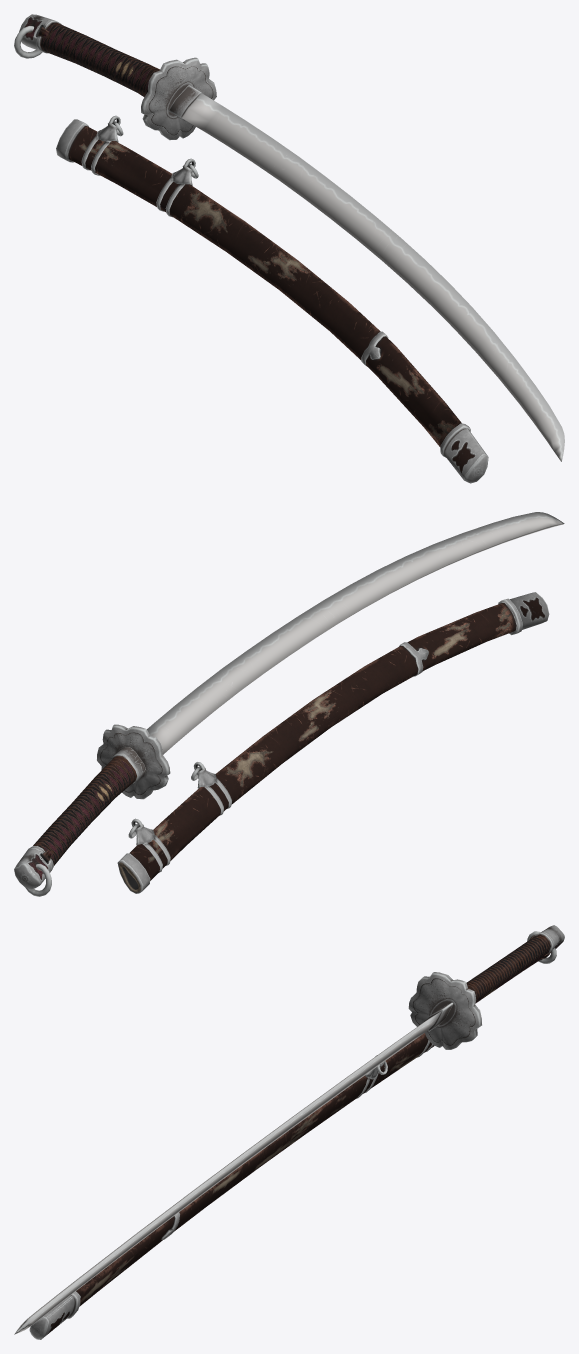
File: katanasekiro.obj
3 renders of one model, top to bottom at view 1: azimuth 30°, elevation 25°; view 2: azimuth 150°, elevation 25°; view 3: azimuth 330°, elevation 25°, orthographic. The views are drawn at different scales.
Visible parts, largest first — view 1: Scrab.001; view 2: Scrab.001; view 3: Scrab.001.
Part boxes in pixels (left/top/right/bottom): Scrab.001: left=14, top=14, right=564, bottom=483; Scrab.001: left=14, top=512, right=564, bottom=896; Scrab.001: left=14, top=925, right=564, bottom=1339.
Bounding box in the file's own units: 28.25 × 32.43 × 233.
